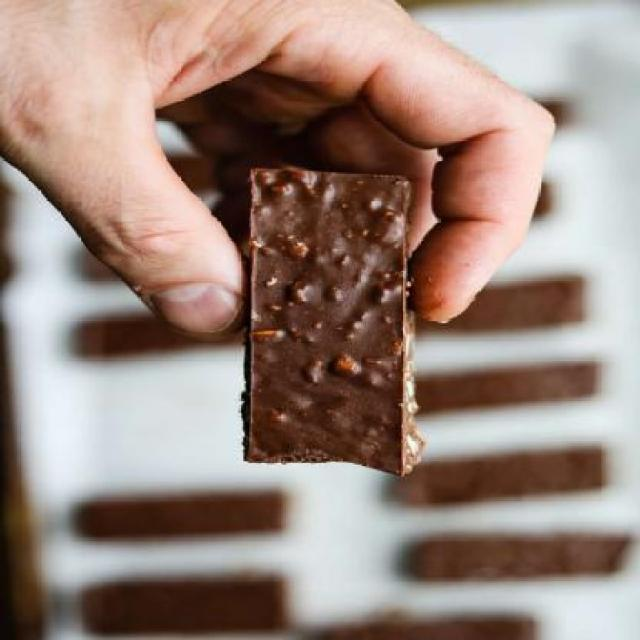Chocolate bar packaged: (238, 165, 417, 478)
